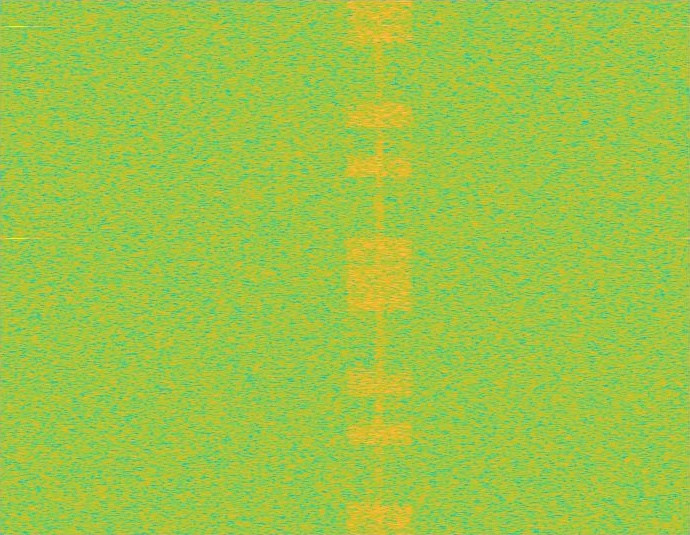DSSS: (375, 0, 384, 534)
LTE: (345, 0, 414, 534)
Radar: (10, 0, 24, 534)
